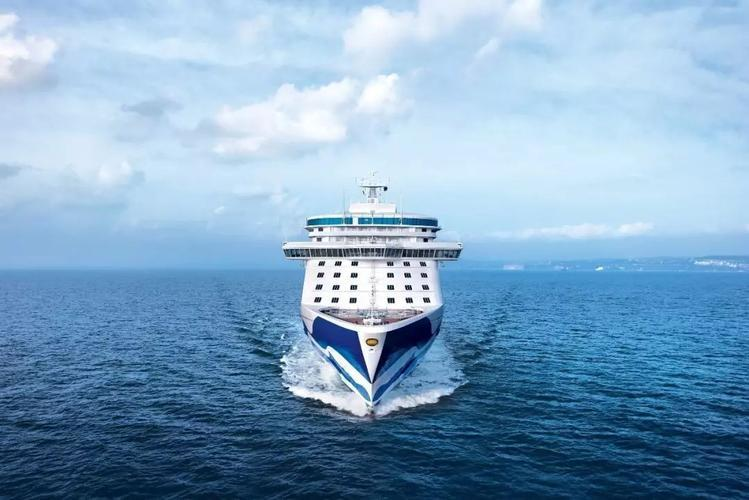Ship: (272, 170, 481, 407)
